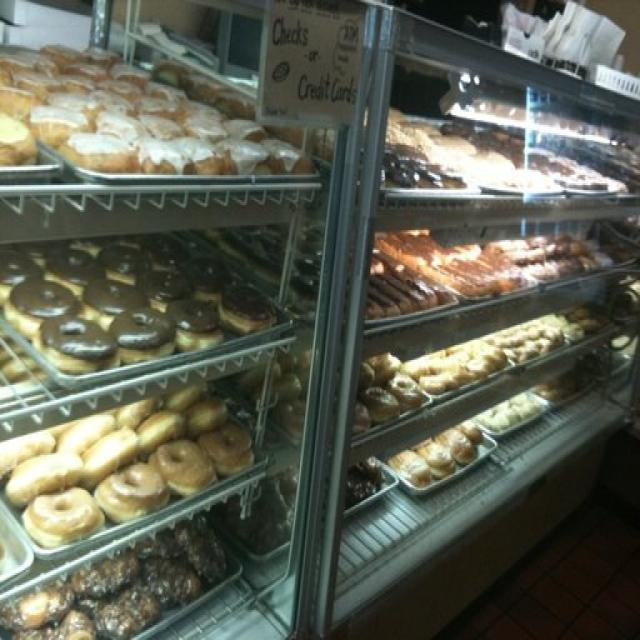Donuts: (4, 42, 640, 618)
